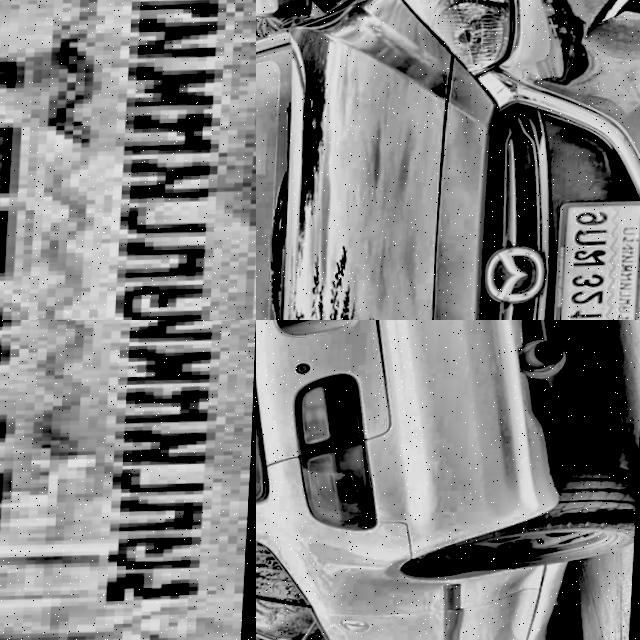license-plate: (0, 0, 256, 320), (0, 320, 256, 640), (553, 201, 640, 320)
